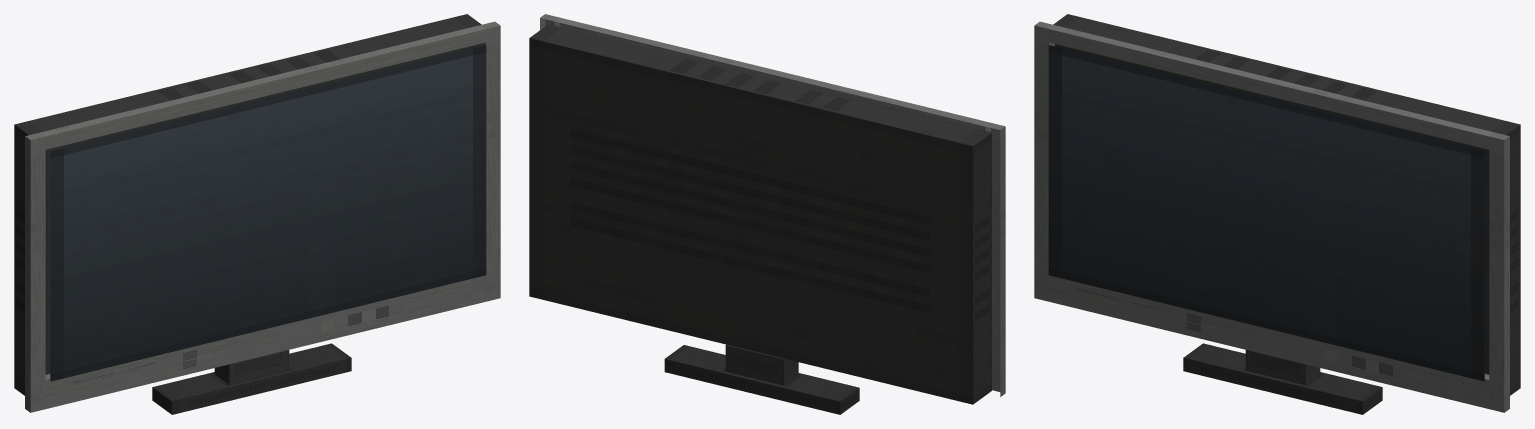
3 renders of one model, left to right at view 1: azimuth 30°, elevation 25°; view 2: azimuth 150°, elevation 25°; view 3: azimuth 330°, elevation 25°, orthographic. The views are drawn at different scales.
Visible parts, largest first — view 1: core_tv; view 2: core_tv; view 3: core_tv.
Boxes of the visible parts, x1,y1,x2,y2 form: core_tv: (14,14,500,414); core_tv: (529,14,1005,414); core_tv: (1034,14,1520,414).
Bounding box in the file's own units: 1.1 × 0.7 × 0.111.
1 material, 1 textured.
